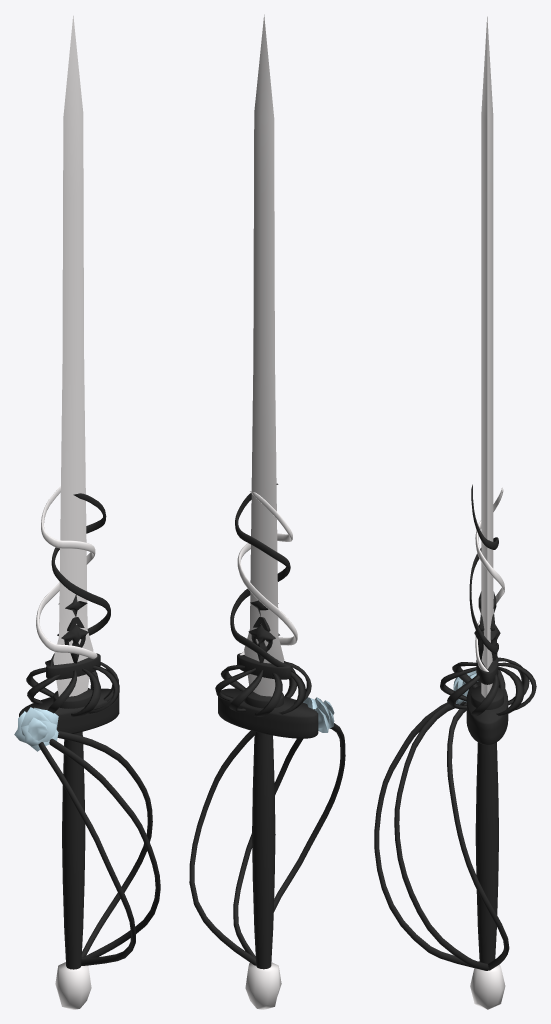
3 renders of one model, left to right at view 1: azimuth 30°, elevation 25°; view 2: azimuth 150°, elevation 25°; view 3: azimuth 270°, elevation 25°, orthographic.
Parts seen in each view (by area): view 1: Box001, Cylinder001, Object003, Object004, Object005, Object018, Object014, 1112, Box004, Object015, cvcxzv, Object016 (+3 smaller); view 2: Box001, Cylinder001, Object018, Object004, Object015, Box004, Object014, Object005, Object003, Object016, cvcxzv001, 1112 (+2 smaller); view 3: Box001, Cylinder001, Object003, Object005, Object004, Object018, Box004, Object015, Object014, Object007, Object017.
Boxes of the visible parts, left/top/right/bottom form: Box001: left=53, top=15, right=93, bottom=696; Cylinder001: left=62, top=732, right=85, bottom=969; Object003: left=49, top=738, right=160, bottom=958; Object004: left=57, top=730, right=152, bottom=958; Object005: left=38, top=742, right=135, bottom=965; Object018: left=19, top=688, right=119, bottom=733; Object014: left=36, top=486, right=97, bottom=658; 1112: left=14, top=707, right=58, bottom=751; Box004: left=55, top=962, right=91, bottom=1009; Object015: left=49, top=493, right=110, bottom=666; cvcxzv: left=61, top=594, right=88, bottom=663; Object016: left=46, top=653, right=100, bottom=679; Box001: left=244, top=14, right=284, bottom=696; Cylinder001: left=252, top=731, right=275, bottom=969; Object018: left=218, top=688, right=318, bottom=738; Object004: left=189, top=730, right=256, bottom=965; Object015: left=230, top=483, right=290, bottom=666; Box004: left=245, top=962, right=281, bottom=1009; Object014: left=237, top=491, right=297, bottom=655; Object005: left=255, top=723, right=345, bottom=958; Object003: left=233, top=738, right=303, bottom=957; Object016: left=237, top=653, right=291, bottom=679; cvcxzv001: left=248, top=600, right=275, bottom=663; 1112: left=303, top=697, right=334, bottom=732; Box001: left=481, top=16, right=493, bottom=697; Cylinder001: left=475, top=742, right=498, bottom=963; Object003: left=394, top=701, right=488, bottom=970; Object005: left=374, top=702, right=476, bottom=968; Object004: left=447, top=702, right=509, bottom=970; Object018: left=466, top=680, right=508, bottom=744; Box004: left=470, top=961, right=505, bottom=1009; Object015: left=469, top=484, right=498, bottom=653; Object014: left=475, top=487, right=504, bottom=671; Object007: left=496, top=666, right=524, bottom=715; Object017: left=470, top=685, right=503, bottom=709.
Bounding box in the file's own units: 52.61 × 373 × 55.06.
